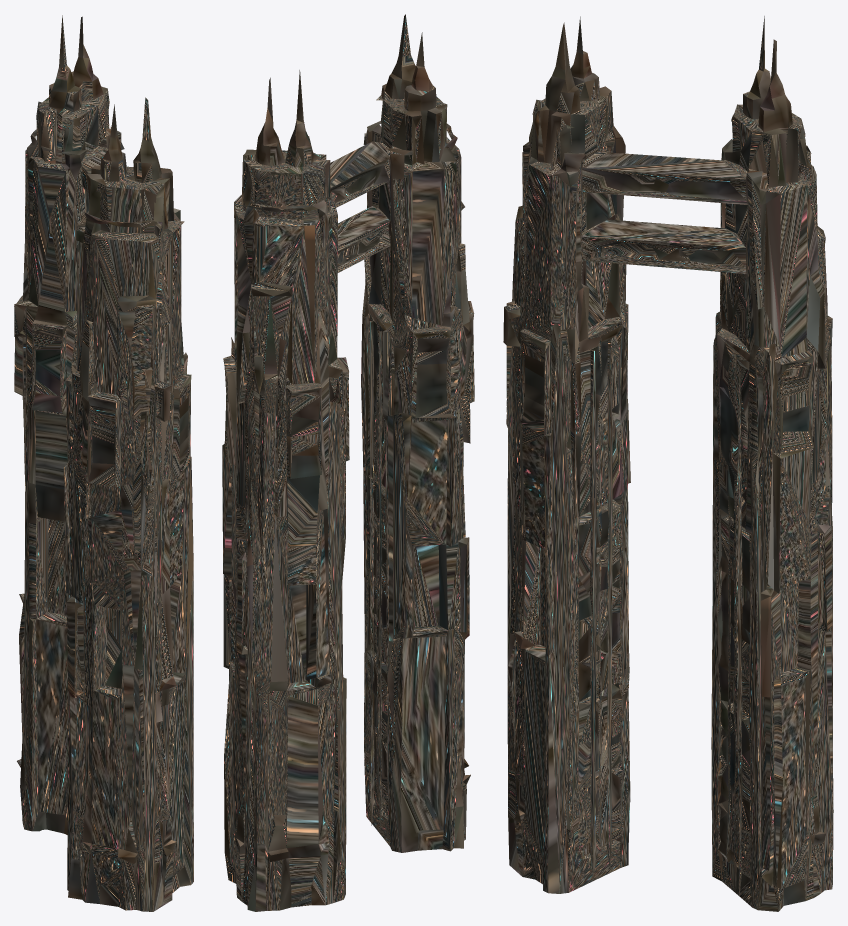
File: t04_far.glb
The picture shows the model from 3 angles, left to right: view 1: azimuth 30°, elevation 25°; view 2: azimuth 150°, elevation 25°; view 3: azimuth 270°, elevation 25°; orthographic projection. The views are drawn at different scales.
Visible parts, largest first — view 1: t04_far; view 2: t04_far; view 3: t04_far.
Part boxes in pixels (left/top/right/bottom): t04_far: left=14, top=15, right=193, bottom=911; t04_far: left=222, top=14, right=474, bottom=911; t04_far: left=503, top=16, right=833, bottom=911.
Bounding box in the file's own units: 36.39 × 185 × 63.88.
1 material, 1 textured.
